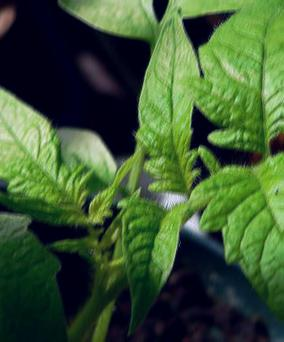Tomato leaf: (180, 0, 284, 163), (0, 69, 102, 235), (207, 141, 284, 342), (135, 1, 210, 200), (121, 195, 191, 336)
